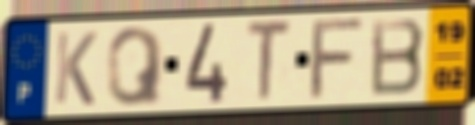4: (184, 21, 230, 106)
B: (368, 15, 428, 99)
F: (306, 15, 369, 103)
K: (51, 29, 100, 108)
Q: (105, 24, 167, 109)
T: (244, 17, 294, 106)
